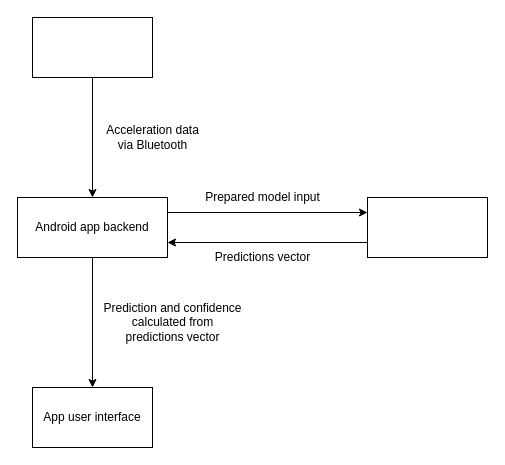
Some shapes in this 505 by 465 pixel diagram are drawn without their labels. Here are the shapes that lost their labels. From the top down, the box of each, then its label:
(32, 16, 152, 78): Nordic Thingy
(366, 196, 488, 258): TFLite model
